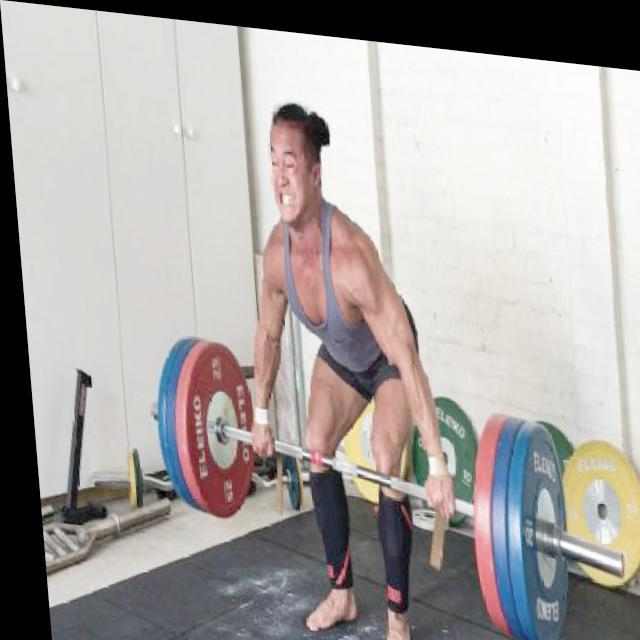barbell: (496, 404, 638, 640)
